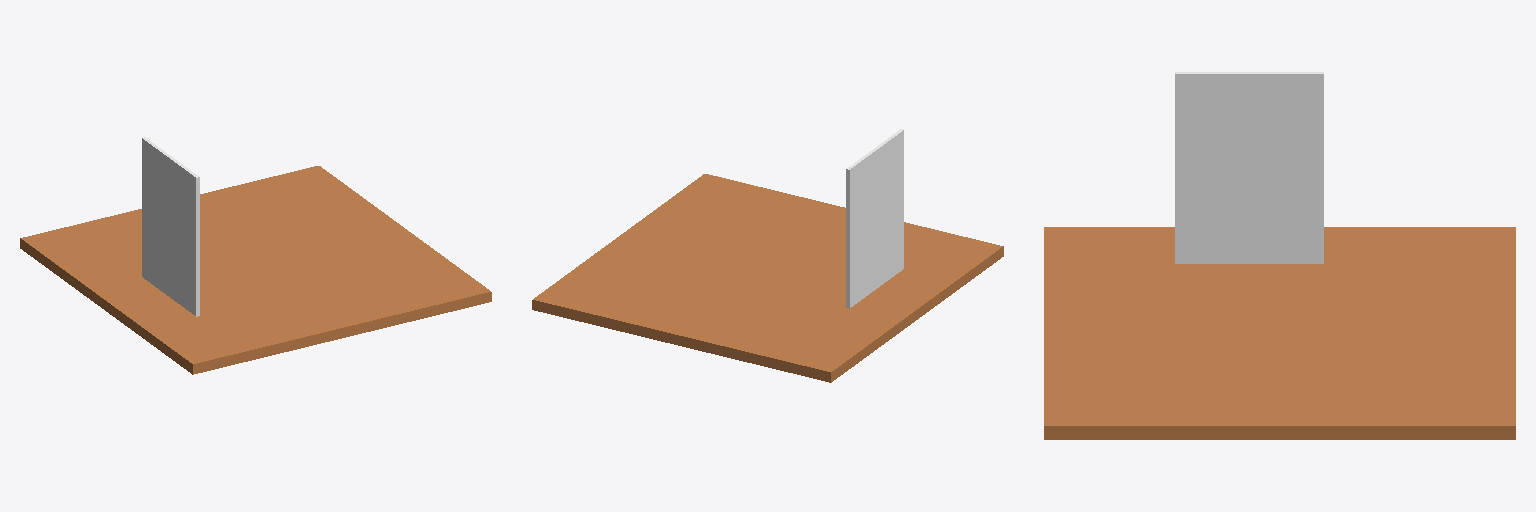
robot.urdf — table_davian_handle_eraser_wipe_up_down:
<?xml version="1.0"?>
<!-- Our real bench, taken from DexManip sim2real/config/arm_ik.yaml.

     table_side 0.90, slab_thickness 0.03, origin_to_table 0.12, table_height 0.70.
     Their scene puts the origin at the robot base and the slab top at z = 0, so
     the table surface is level with the base plate. Our bench matches, and so
     does the sim, which is why only the size and reach change here.

     Placement. The env writes this link's root at the env origin plus
     table_reset_z, so the offset below carries the real geometry. The table
     centre sits 0.57 m in front of the base, which under the base frame's
     -90 degree yaw is 0.09 m along world -y. The 0.135 puts the 3 cm slab's
     top at world 0.53, level with the robot base.

     One box only. The scaling helper in scene_utils rewrites every <box size>
     it finds, so a second box here would be resized into a second table. The
     base plate is visual only in DexManip's own scene and lives in the viewer.
-->
<robot name="table_davian_handle_eraser_wipe_up_down">
  <link name="box">
    <visual>
      <material name="wood">
        <color rgba="0.82 0.56 0.35 1.0"/>
      </material>
      <origin xyz="0 -0.09 0.135"/>
      <geometry>
        <box size="0.9 0.9 0.03"/>
      </geometry>
    </visual>
    <collision>
      <origin xyz="0 -0.09 0.135"/>
      <geometry>
        <box size="0.9 0.9 0.03"/>
      </geometry>
    </collision>

    <!-- Whiteboard, 40 by 28.5 by 1 cm, standing on the table.

         Measured off the far right table corner as the robot sees it. The 40 cm
         runs with gravity, from the table surface to 40 cm up. The 28.5 cm runs
         along the robot's front to back axis, and the 1 cm is the thickness, so
         the board faces sideways rather than toward the robot.

         Its far face sits 25 cm in from the far table edge, and the thickness
         spans 15.5 to 16.5 cm in from the right edge. In the base frame that is
         x 0.485 to 0.770, y -0.295 to -0.285, z 0 to 0.40. The origin below is
         that centre carried into this link's frame through the base transform.
    -->
    <visual>
      <material name="whiteboard">
        <color rgba="1.0 1.0 1.0 1.0"/>
      </material>
      <origin xyz="-0.29 -0.1475 0.35"/>
      <geometry>
        <box size="0.01 0.285 0.4"/>
      </geometry>
    </visual>
    <collision>
      <origin xyz="-0.29 -0.1475 0.35"/>
      <geometry>
        <box size="0.01 0.285 0.4"/>
      </geometry>
    </collision>

    <inertial>
      <mass value="500"/>
      <friction value="1.0"/>
      <inertia ixx="1000.0" ixy="0.0" ixz="0.0" iyy="1000.0" iyz="0.0" izz="1000.0"/>
    </inertial>
  </link>
</robot>

--- Render facts (derived) ---
The picture shows the robot from 3 angles, left to right: view 1: azimuth 30°, elevation 25°; view 2: azimuth 150°, elevation 25°; view 3: azimuth 270°, elevation 25°; orthographic projection.
Robot: table_davian_handle_eraser_wipe_up_down — 1 links, 0 joints (none); root link box; default pose: every joint at zero.
Links seen in each view (by area): view 1: box; view 2: box; view 3: box.
Link boxes in pixels (bbox=[...]): box: bbox=[20, 137, 491, 374]; box: bbox=[532, 129, 1003, 382]; box: bbox=[1044, 72, 1515, 439].
Bounding box of the posed robot: 0.9 × 0.9 × 0.43 m (x, y, z).
Geometry: primitives only (box / cylinder / sphere), no mesh files.
